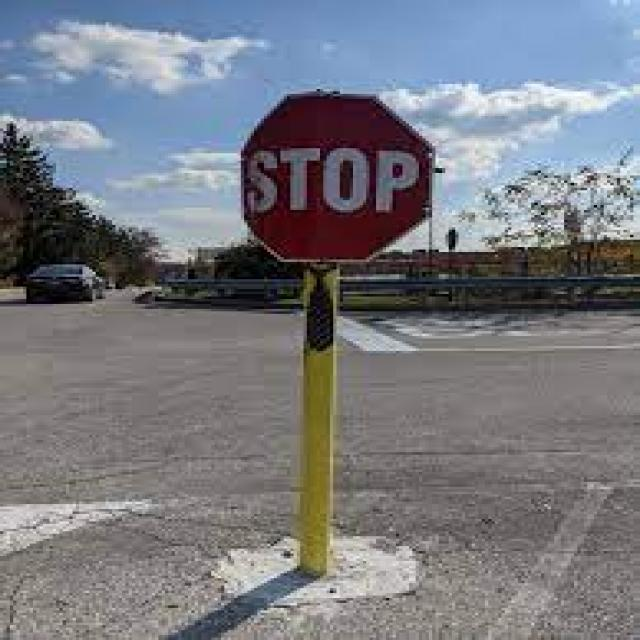stop-sign: (153, 73, 498, 311)
